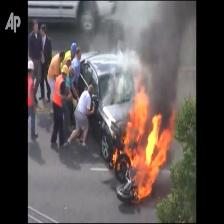fire: (120, 122, 170, 198)
smoke: (137, 2, 181, 106)
